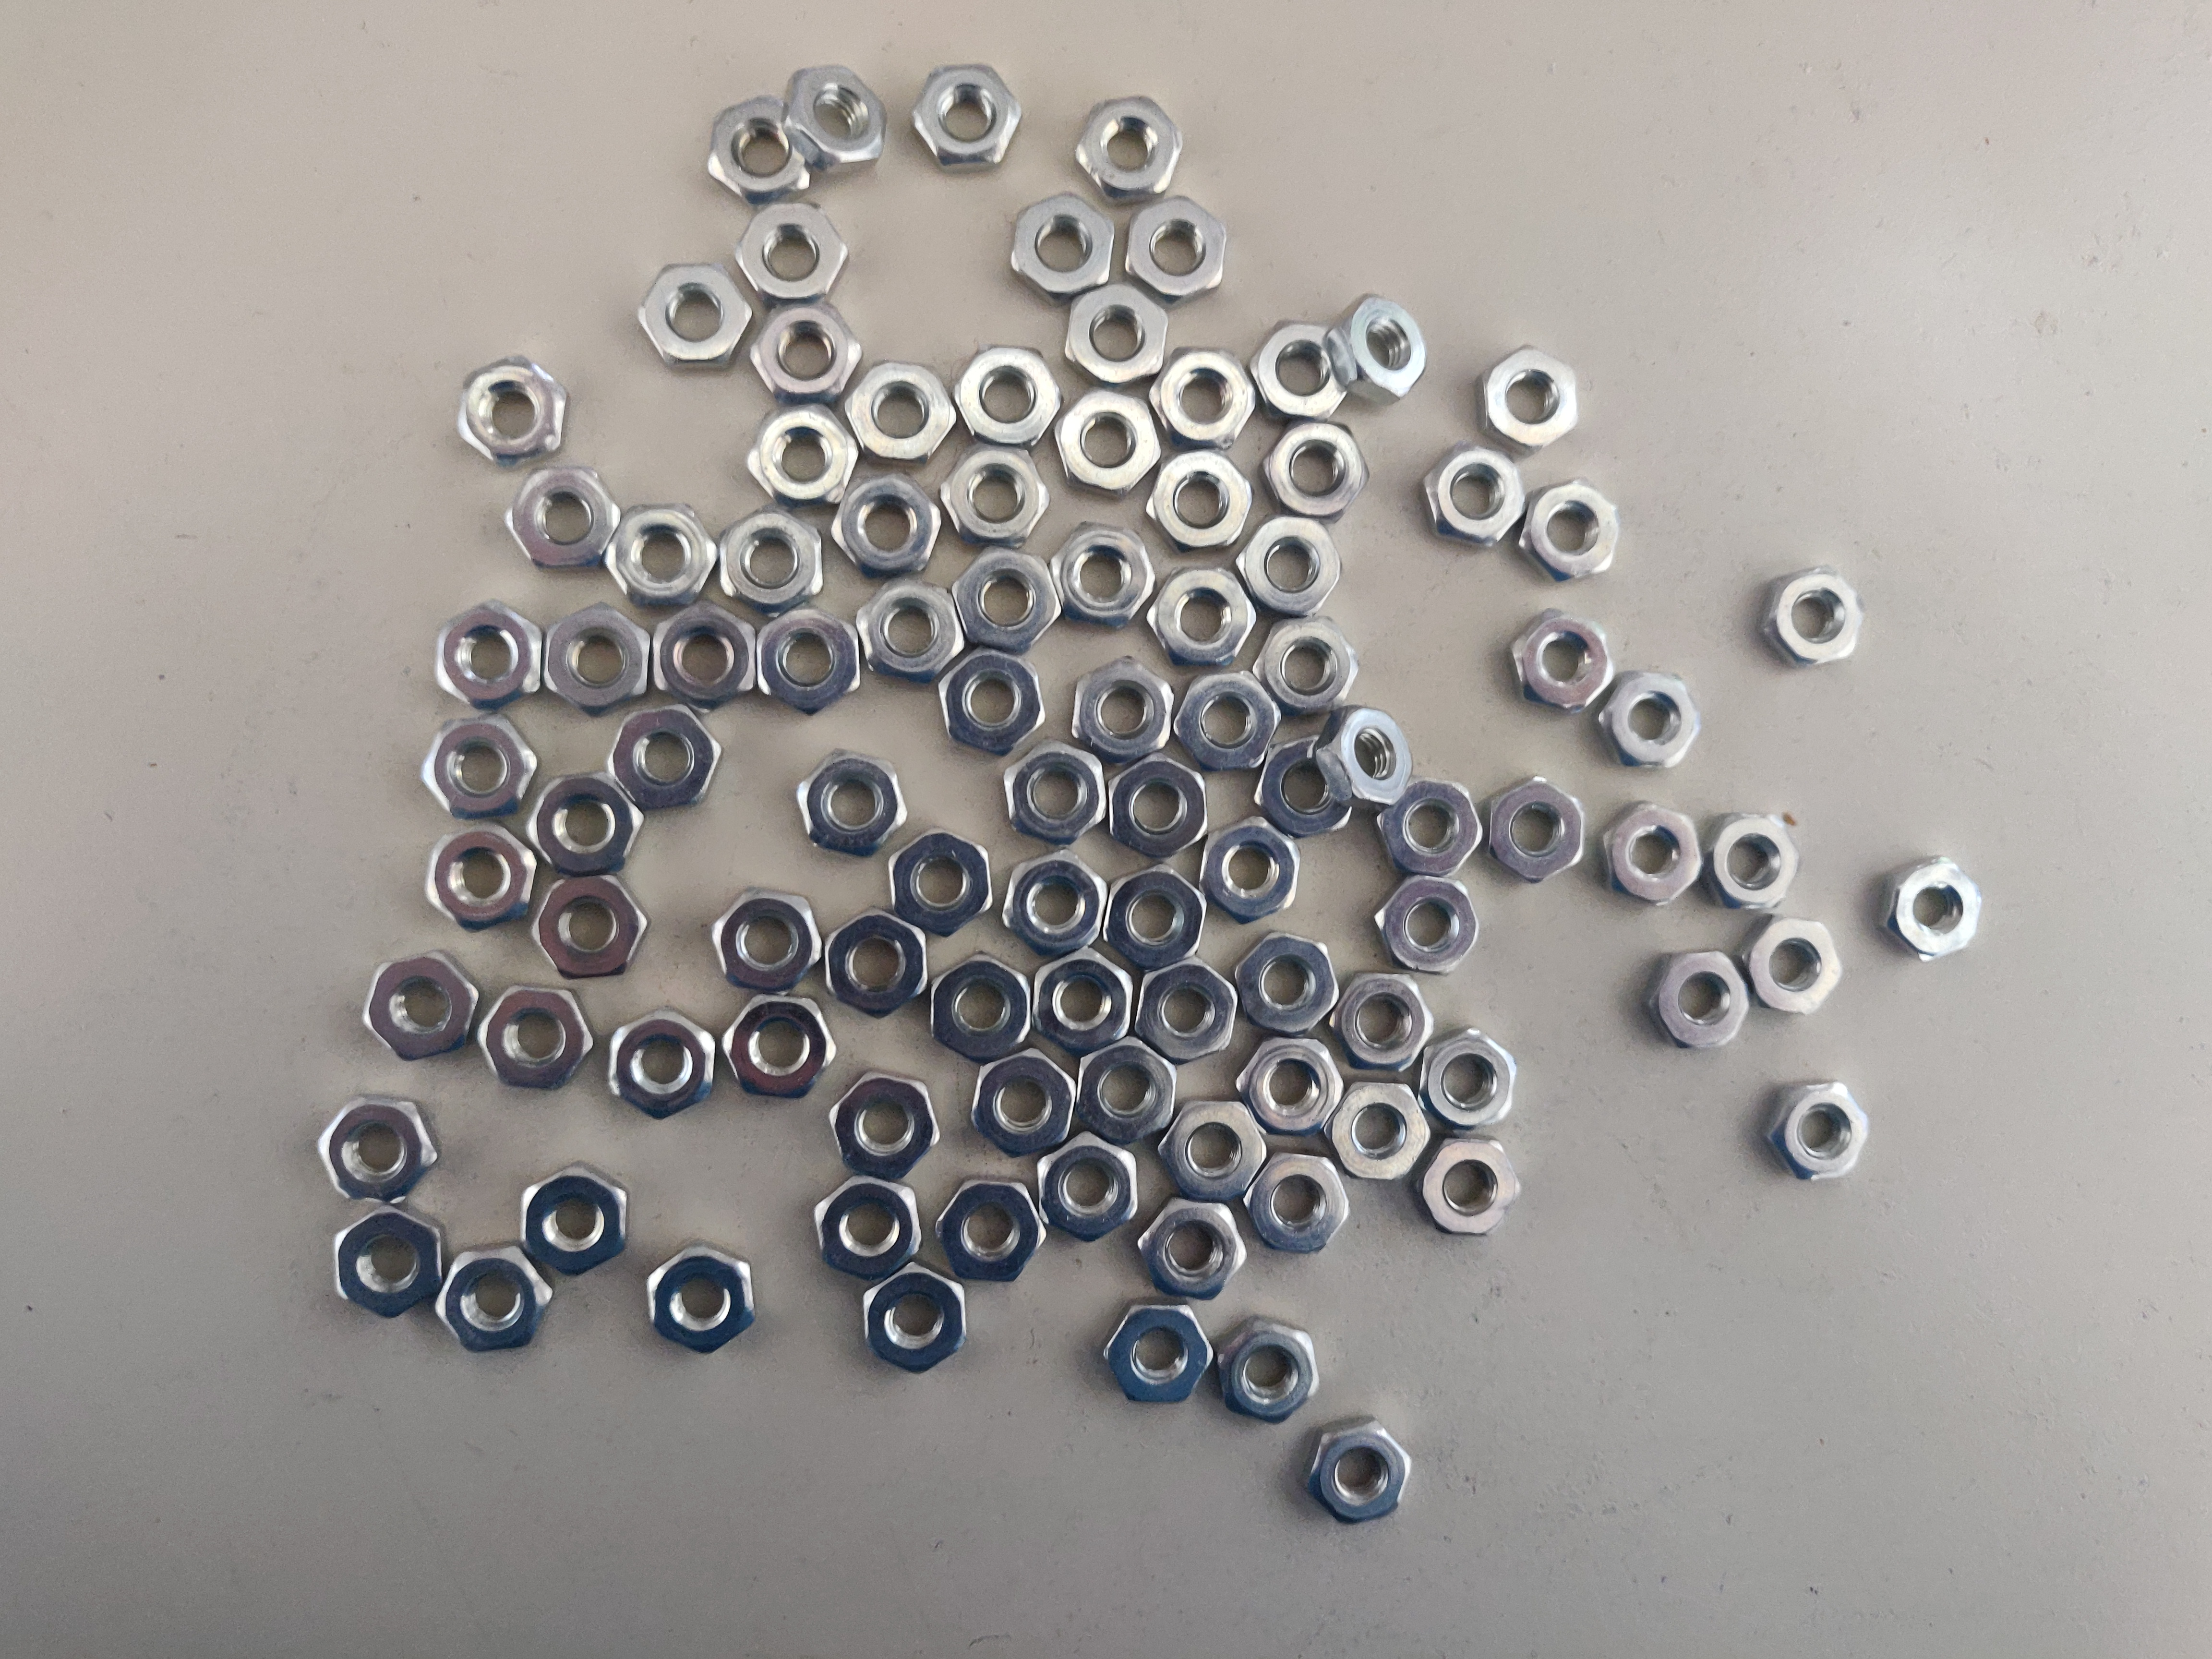nut: (1207, 1314, 1324, 1424), (451, 355, 568, 465), (601, 699, 718, 809), (362, 951, 479, 1060), (319, 1093, 435, 1201), (331, 1209, 448, 1317), (435, 1239, 552, 1347), (516, 1168, 632, 1276), (641, 1244, 758, 1352), (852, 1263, 968, 1371), (1099, 1298, 1216, 1406), (475, 981, 592, 1089), (423, 706, 540, 814), (421, 824, 538, 932), (913, 64, 1024, 173), (637, 261, 751, 368), (735, 195, 848, 301), (798, 748, 911, 854), (507, 467, 620, 573), (604, 1009, 718, 1115), (968, 1044, 1082, 1150), (752, 298, 864, 404), (939, 645, 1050, 751), (833, 476, 944, 582), (1071, 92, 1184, 197), (749, 401, 862, 505), (1061, 277, 1174, 382), (949, 544, 1062, 648), (752, 606, 866, 711), (604, 505, 718, 610), (711, 889, 824, 993), (719, 993, 833, 1098), (827, 1073, 941, 1178), (817, 1171, 930, 1276), (1134, 1197, 1247, 1302), (939, 1178, 1047, 1286), (1874, 854, 1980, 964), (845, 359, 956, 464), (953, 342, 1064, 446), (428, 605, 540, 709), (1143, 446, 1254, 551), (545, 605, 648, 718), (1299, 1420, 1414, 1520), (1329, 296, 1430, 408), (974, 1049, 1078, 1155), (1047, 526, 1155, 629), (1069, 653, 1179, 755), (887, 828, 996, 929), (1371, 870, 1480, 971), (1261, 420, 1371, 521), (536, 878, 648, 978), (1480, 774, 1583, 880), (1001, 852, 1109, 953), (1146, 565, 1254, 666), (1231, 931, 1341, 1030), (1195, 821, 1305, 920), (1160, 1096, 1270, 1195), (1482, 347, 1585, 451), (1423, 441, 1526, 545), (1313, 708, 1414, 814), (1001, 742, 1109, 842), (1104, 756, 1212, 856), (1245, 1154, 1348, 1256), (1510, 605, 1611, 709), (1057, 387, 1158, 491), (1238, 516, 1343, 617), (1127, 197, 1231, 296), (1258, 615, 1359, 716), (786, 66, 887, 167), (1521, 481, 1623, 580), (1420, 1134, 1522, 1234), (932, 958, 1035, 1058), (1035, 955, 1134, 1058), (1080, 1039, 1177, 1143), (723, 509, 827, 606), (1139, 960, 1235, 1066), (1043, 1138, 1139, 1244), (859, 582, 965, 678), (1649, 950, 1750, 1049), (1759, 568, 1864, 664), (1599, 667, 1703, 763), (1251, 319, 1357, 413), (1768, 1084, 1871, 1180), (707, 99, 808, 195), (1606, 802, 1702, 903), (1336, 1082, 1432, 1183), (944, 448, 1045, 544), (1423, 1026, 1517, 1129), (833, 911, 925, 1016), (1242, 1037, 1343, 1131), (1007, 200, 1111, 291), (1179, 676, 1280, 769), (1386, 777, 1477, 877), (1157, 354, 1258, 443), (1709, 817, 1801, 913), (1111, 868, 1207, 960), (657, 612, 747, 708), (1750, 920, 1839, 1014), (1341, 978, 1428, 1072), (552, 781, 625, 859)
